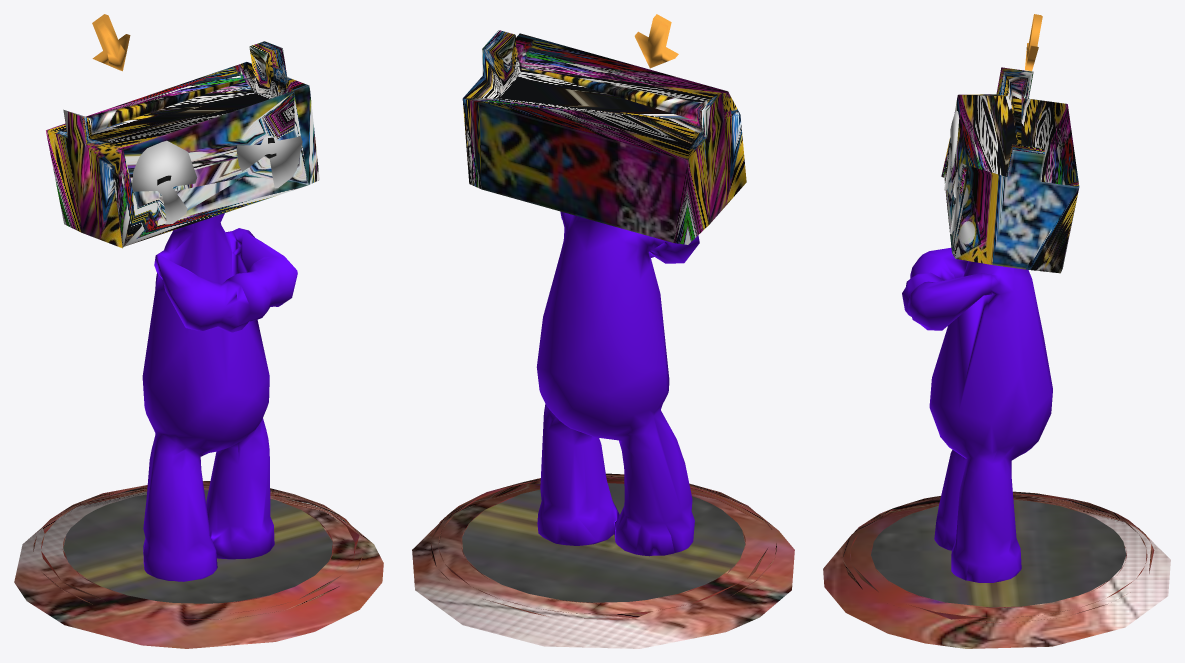
The picture shows the model from 3 angles, left to right: view 1: azimuth 30°, elevation 25°; view 2: azimuth 150°, elevation 25°; view 3: azimuth 270°, elevation 25°; orthographic projection. The views are drawn at different scales.
Bounding box in the file's own units: 1.43 × 2.39 × 1.43.
7 materials, 4 textured.
